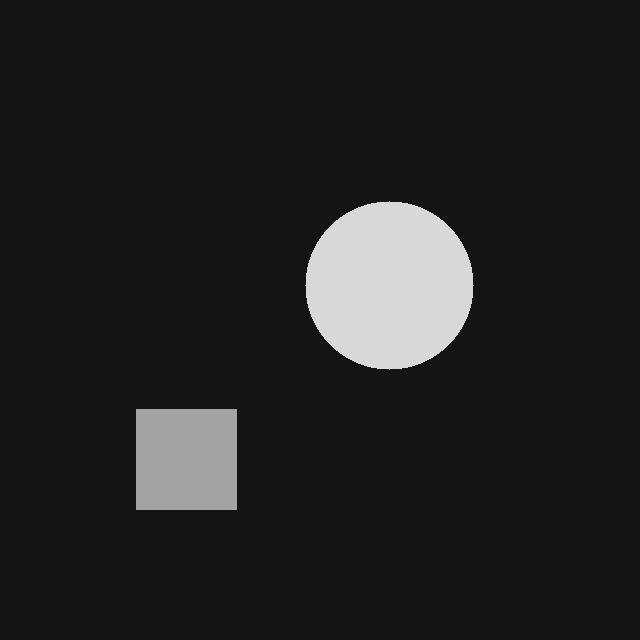circle: (305, 201, 473, 369)
square: (136, 409, 236, 509)
